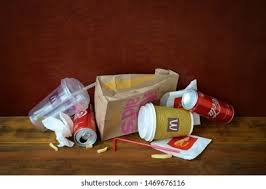cardboard: (99, 65, 175, 142)
metal: (182, 86, 240, 126), (71, 102, 99, 146)
paper: (148, 127, 212, 160), (160, 74, 211, 114), (36, 112, 77, 151)
plastic: (19, 72, 99, 130), (132, 101, 203, 140)
